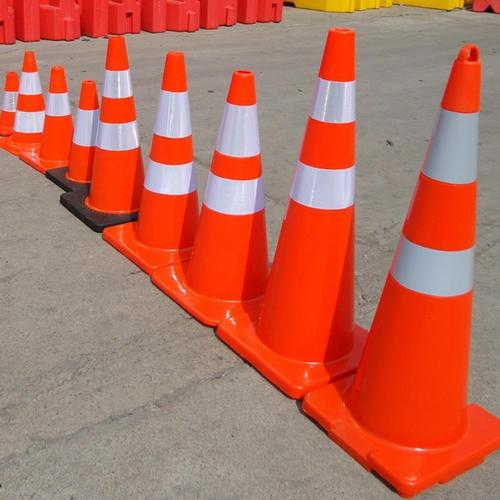cone_barrel: (347, 51, 490, 457), (254, 31, 365, 369), (189, 79, 274, 311), (133, 50, 203, 259), (85, 34, 148, 224), (62, 79, 99, 185), (39, 60, 74, 170), (11, 47, 46, 156)
